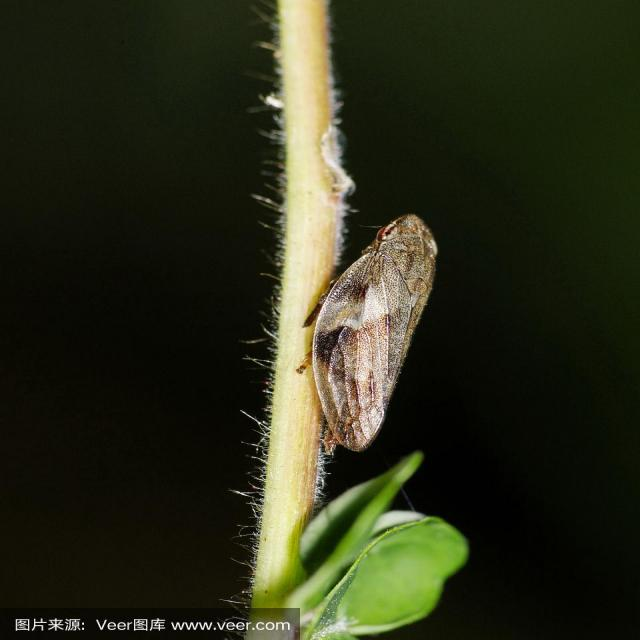Yechan: (306, 204, 461, 452)
